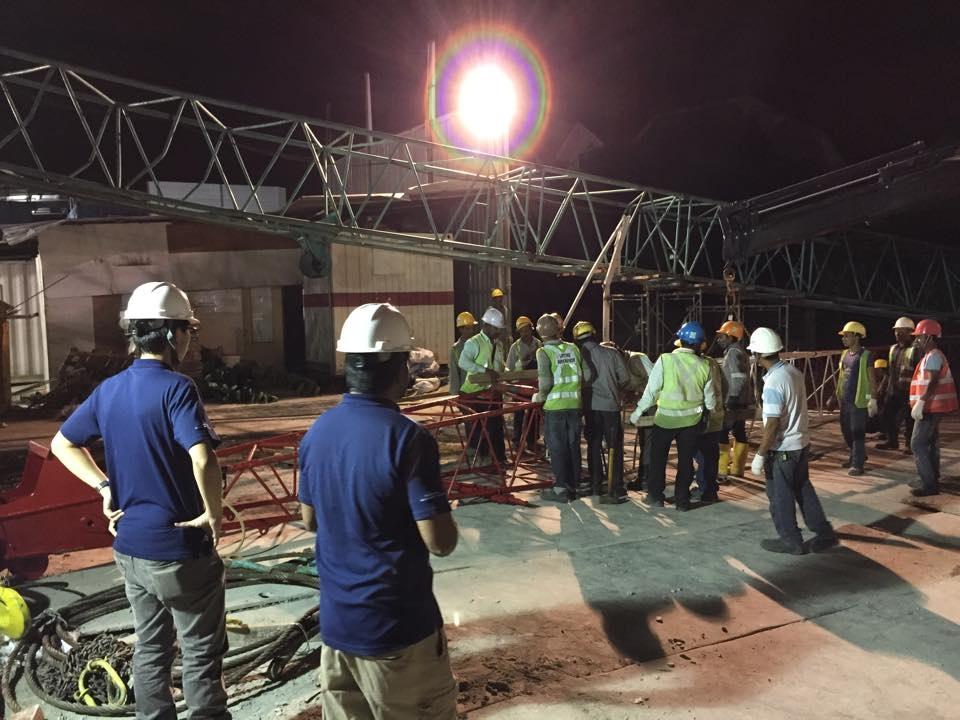blue: (677, 320, 705, 353)
red: (911, 317, 942, 349)
white: (336, 298, 413, 402), (122, 280, 195, 367), (748, 324, 782, 367), (479, 307, 506, 339), (891, 316, 913, 343)
yellow: (535, 313, 563, 344), (716, 319, 744, 348), (839, 320, 865, 347), (571, 320, 595, 345), (455, 310, 477, 337), (515, 316, 533, 337), (489, 287, 505, 304), (872, 358, 888, 374)
